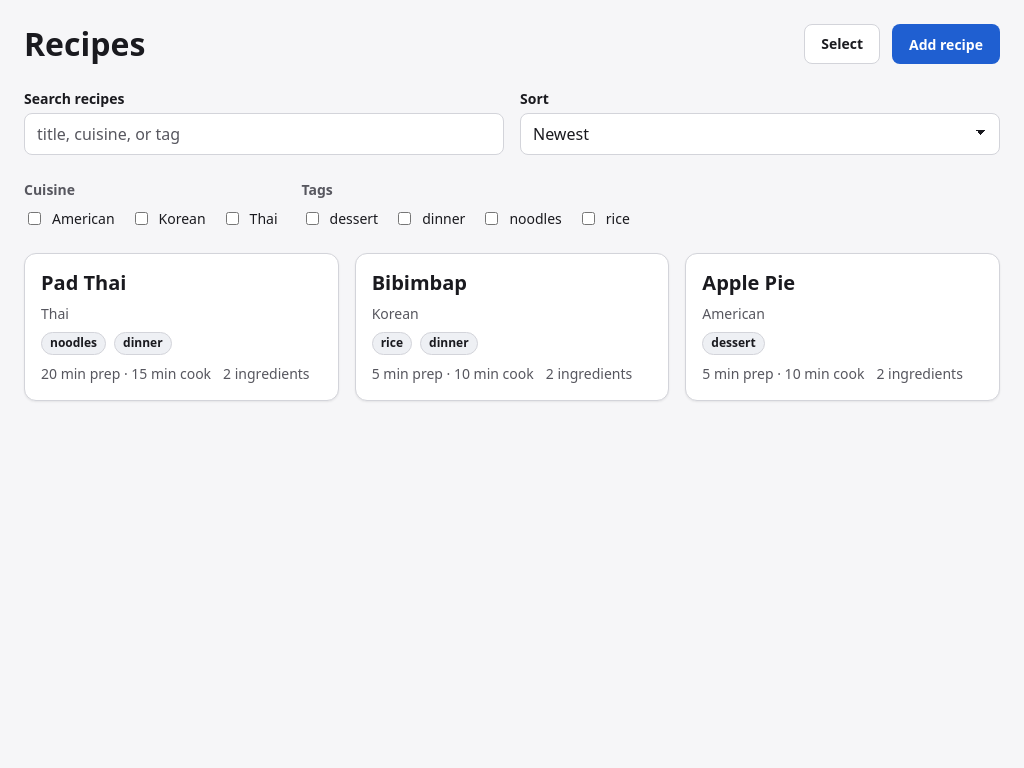
Scenario: RecipeList multi-select › tapping a card ticks it instead of navigating
Expected: the heading "Pad Thai" is shown, [41,269,126,296]
Click the button "Select".
click(842, 44)  # box [804,24,880,64]
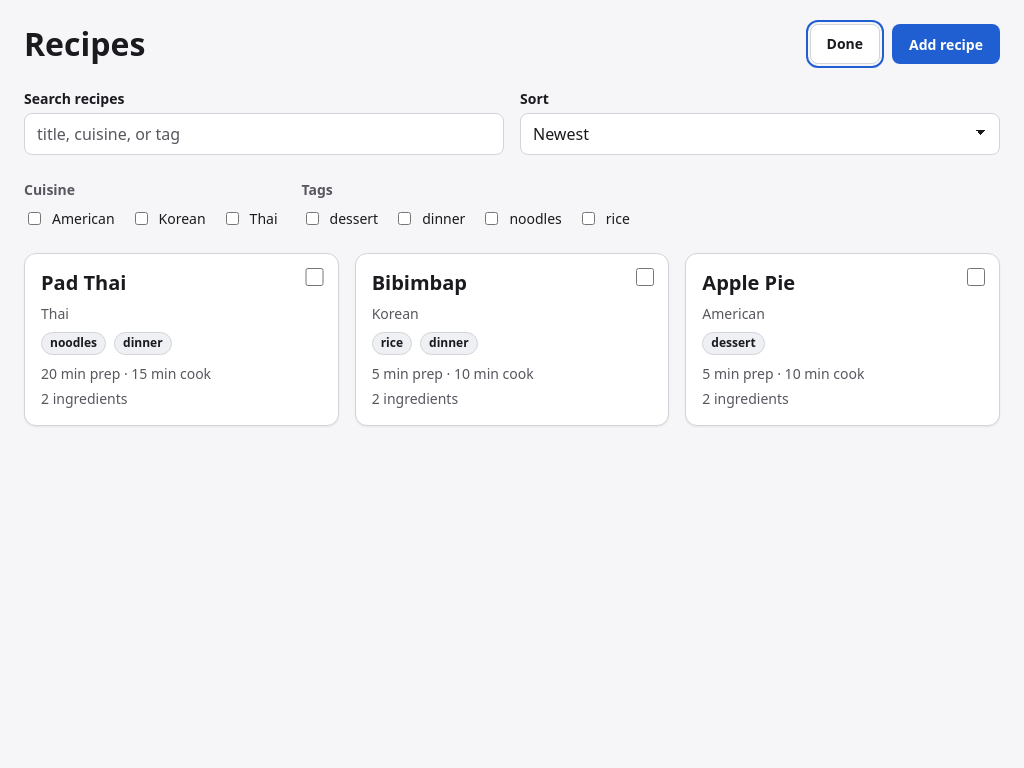
Click the heading "Pad Thai".
click(84, 282)  # box [41,269,126,296]
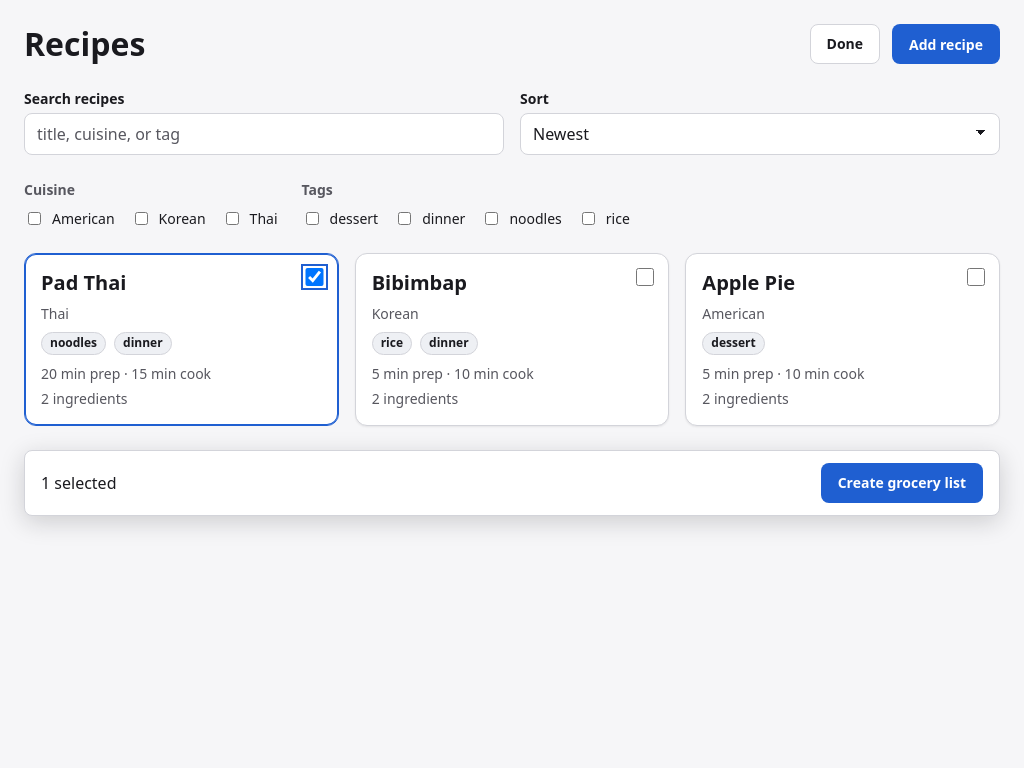
Expected: the heading "Recipes" is shown, [24,24,145,64]
Now the checkbox labelled "Pad Thai" is checked, box [305,268,324,286]
